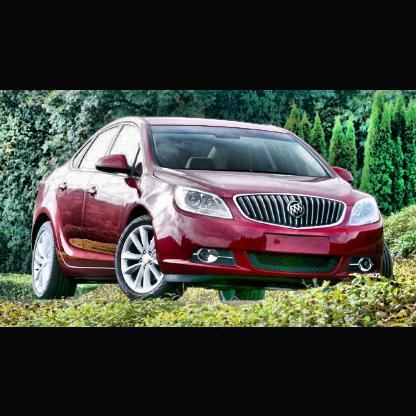Buick Verano Sedan 2012: (32, 116, 393, 301)
